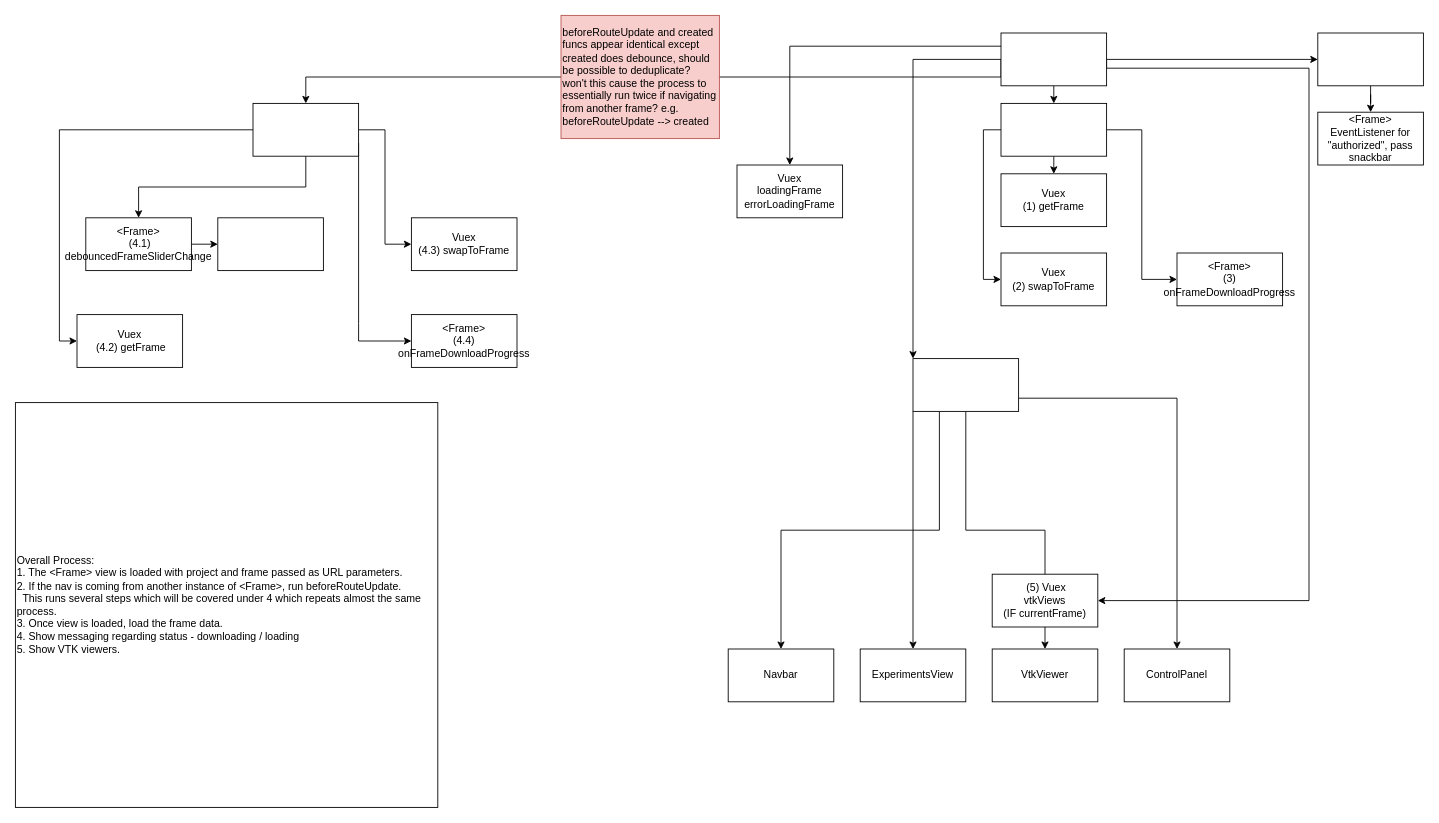
This 1439x823 diagram has some shape labels left out. The centre of each missing label's shape, as x and y in pixels:
(0) <Frame> async beforeRouteUpdate: the point at 1053,129
(4) <Frame> async created: the point at 305,129
<Frame> (project/frame params passed): the point at 1053,59
<Frame> mounted: the point at 1370,59
<Frame> scanFrames: the point at 270,244
Components: the point at 965,384
